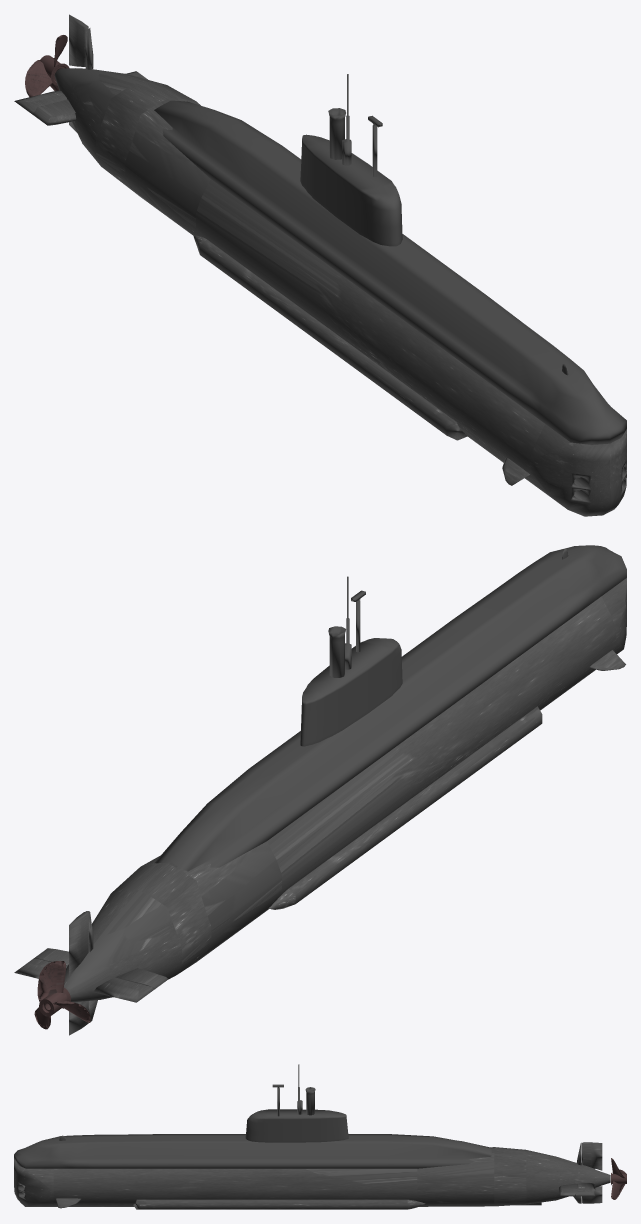
File: type_209.glb
3 renders of one model, top to bottom at view 1: azimuth 30°, elevation 25°; view 2: azimuth 150°, elevation 25°; view 3: azimuth 270°, elevation 25°, orthographic. The views are drawn at different scales.
Parts seen in each view (by area): view 1: Cylinder; view 2: Cylinder; view 3: Cylinder.
Boxes of the visible parts, x1=… form: Cylinder: x1=14, y1=14, x2=626, y2=516; Cylinder: x1=14, y1=545, x2=626, y2=1035; Cylinder: x1=14, y1=1064, x2=626, y2=1209.
Size of the model in its own units: 5.25 by 10.57 by 41.82.
Materials: 3 (3 with a texture image).
